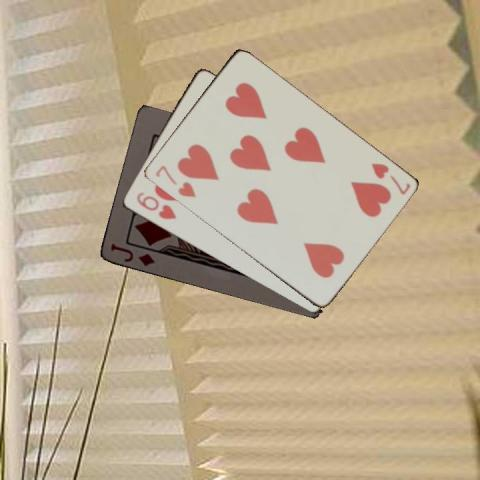6h: (133, 189, 177, 221)
7h: (152, 162, 197, 199), (368, 159, 411, 197)
Jd: (107, 240, 156, 269)
